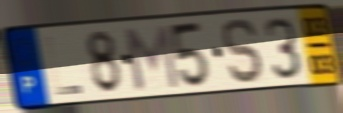3: (264, 14, 304, 81)
5: (167, 18, 213, 90)
8: (85, 29, 125, 95)
L: (43, 34, 85, 98)
M: (120, 22, 182, 92)
S: (221, 17, 267, 86)
